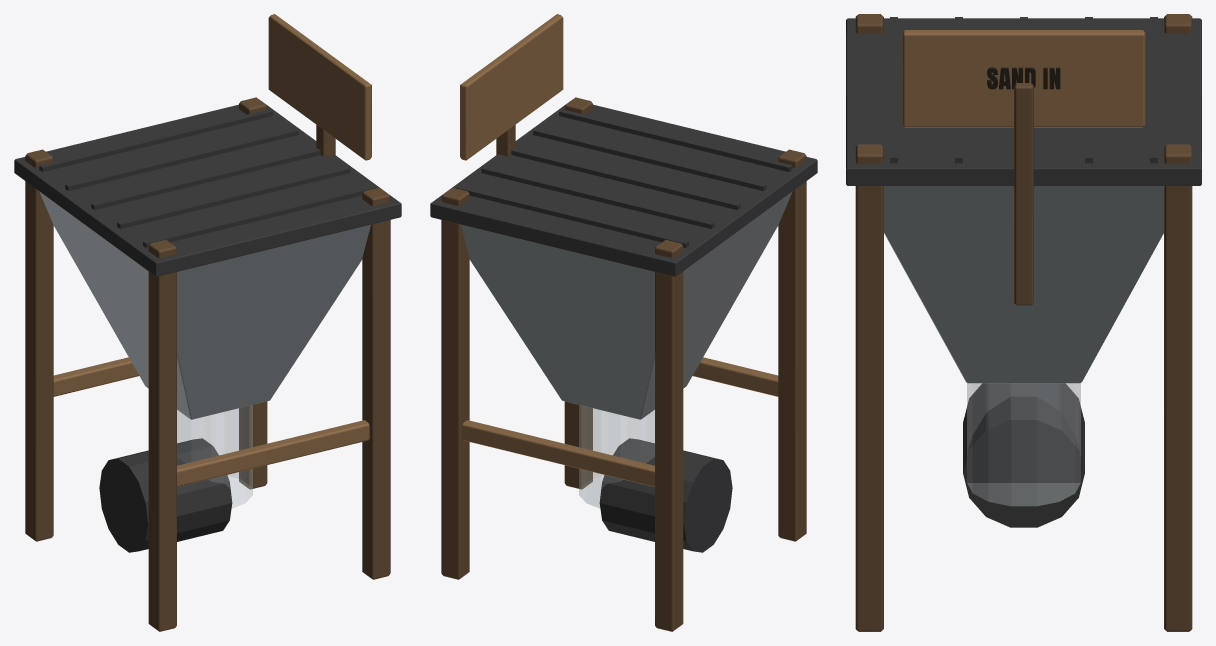
Rendered from PipeIntake.glb.
3 views of the same model, side by side, from view 1: azimuth 30°, elevation 25°; view 2: azimuth 150°, elevation 25°; view 3: azimuth 270°, elevation 25° (orthographic). The views are drawn at different scales.
Visible parts, largest first — view 1: PipeIntake.001; view 2: PipeIntake.001; view 3: PipeIntake.001.
Boxes of the visible parts, x1,y1,x2,y2 form: PipeIntake.001: (14,14,401,631); PipeIntake.001: (430,14,817,631); PipeIntake.001: (846,14,1201,631).
Size of the model in its own units: 0.8834 by 1.63 by 0.8768.
